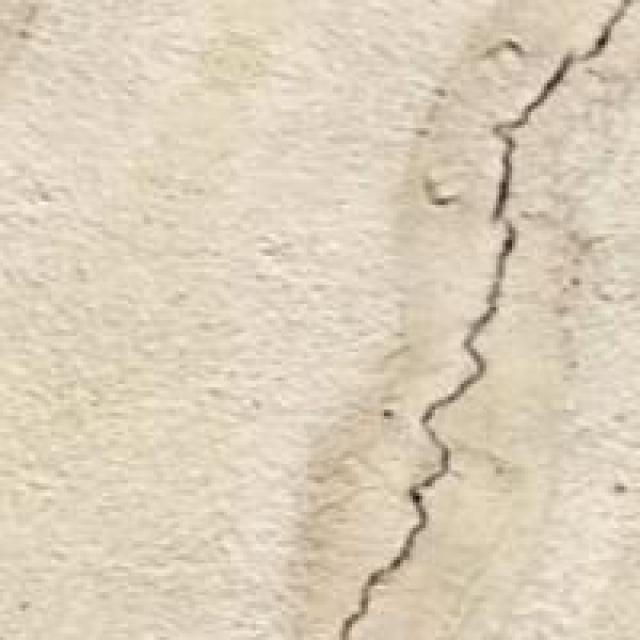Crack: (288, 0, 637, 637)
